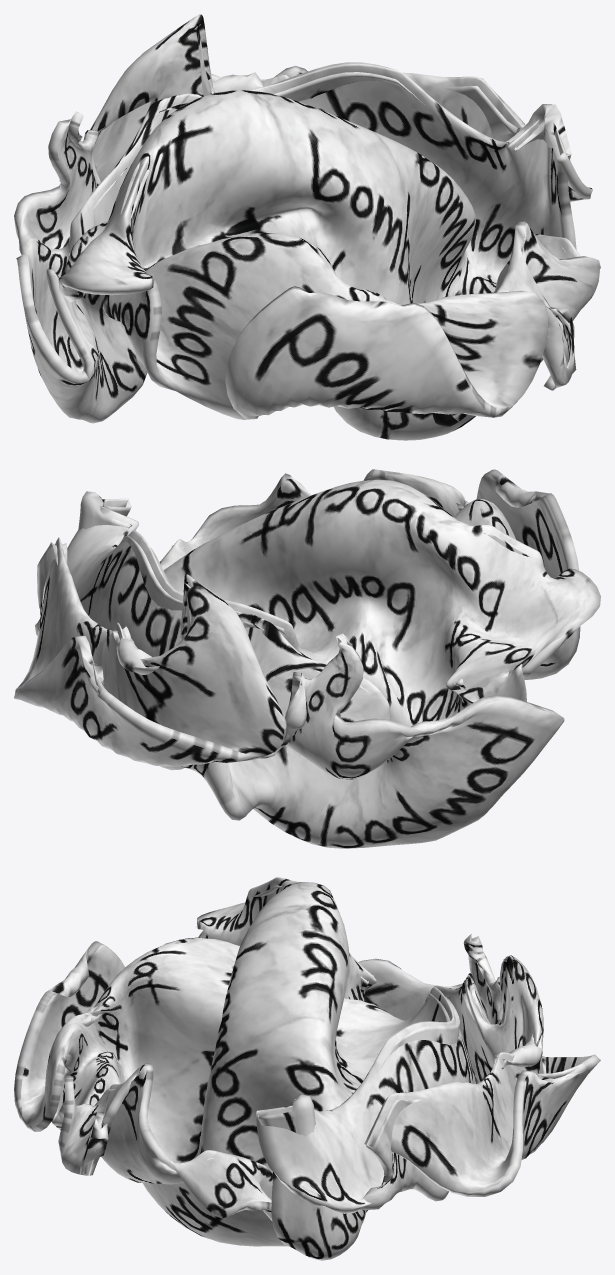
File: Paper2.fbx
3 renders of one model, top to bottom at view 1: azimuth 30°, elevation 25°; view 2: azimuth 150°, elevation 25°; view 3: azimuth 270°, elevation 25°, orthographic. The views are drawn at different scales.
Visible parts, largest first — view 1: Plane; view 2: Plane; view 3: Plane.
Part boxes in pixels (box(x1,y1,x2,y2)): Plane: box(14, 14, 600, 440); Plane: box(14, 469, 600, 848); Plane: box(14, 877, 600, 1260).
Bounding box in the file's own units: 62.92 × 35.81 × 67.91.
Materials: 1 (1 with a texture image).
